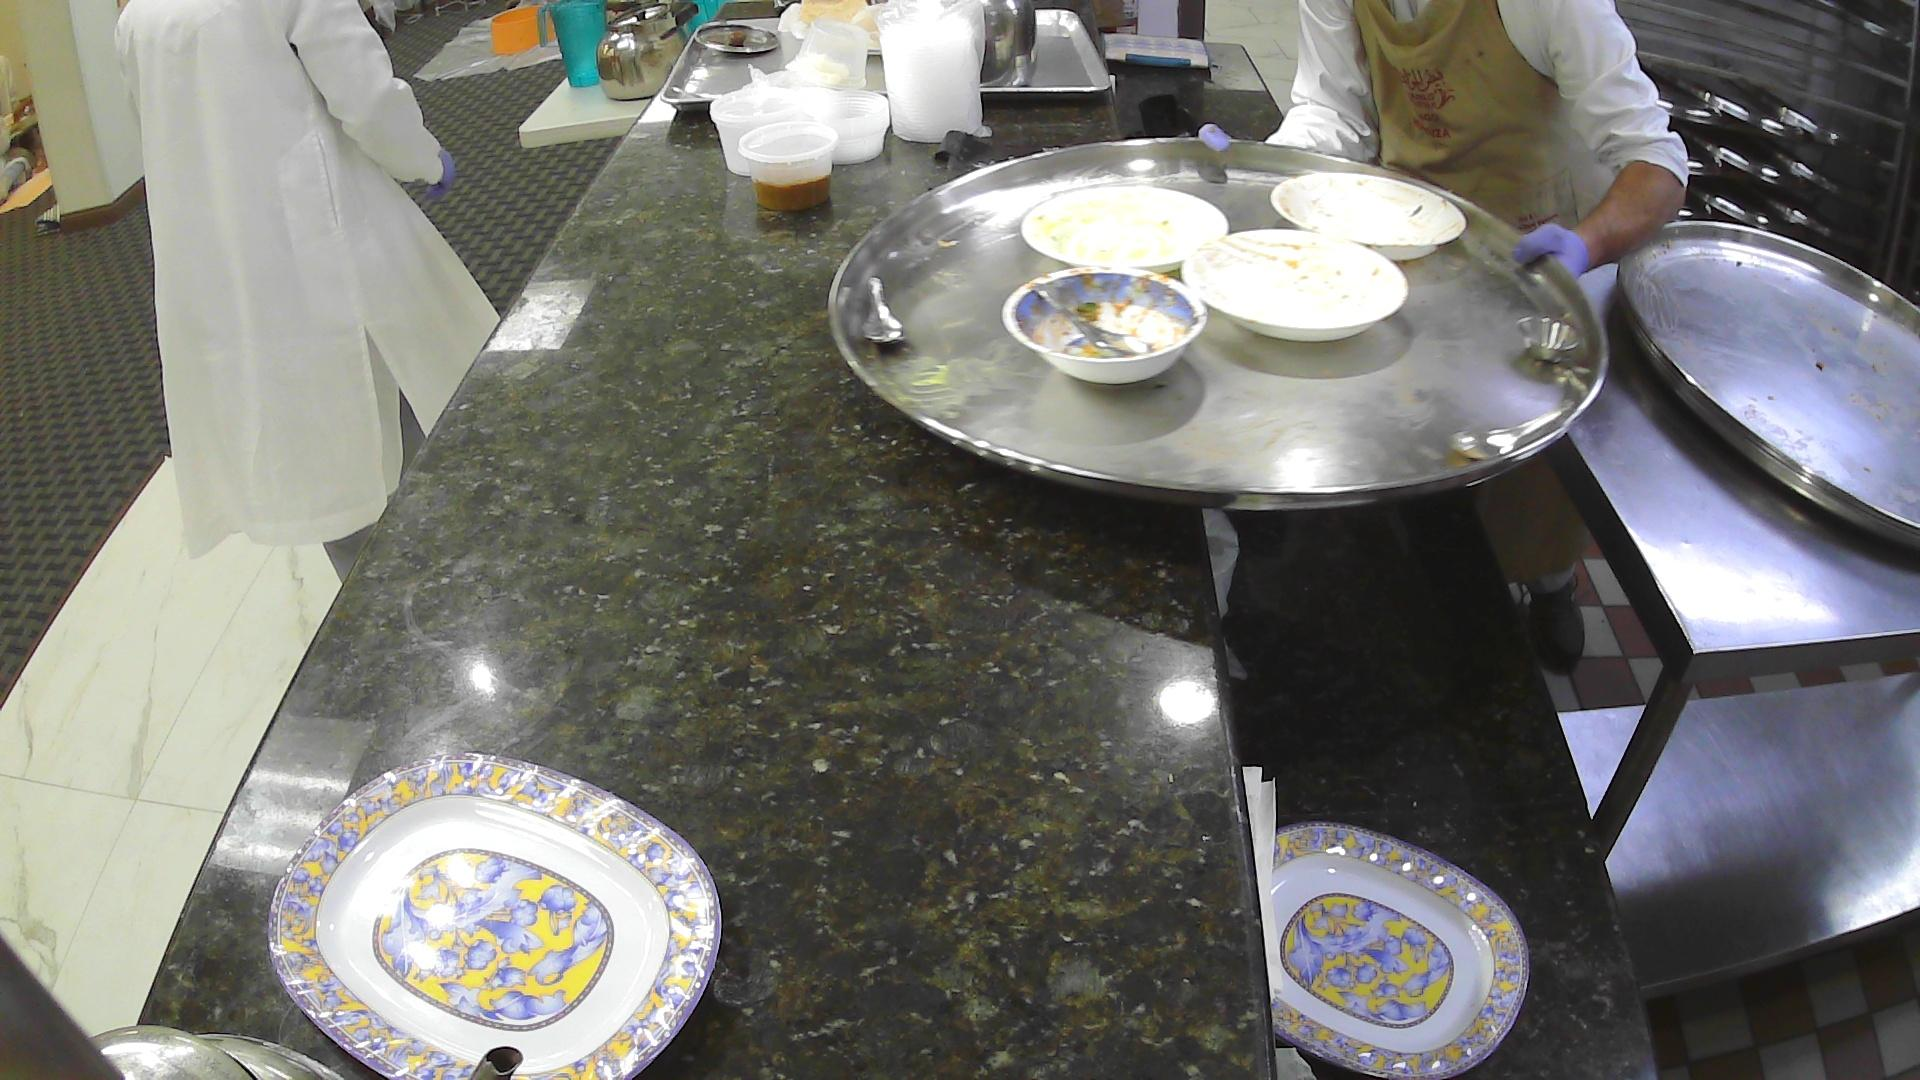thaal: (824, 133, 1610, 512), (1611, 218, 1920, 560)
